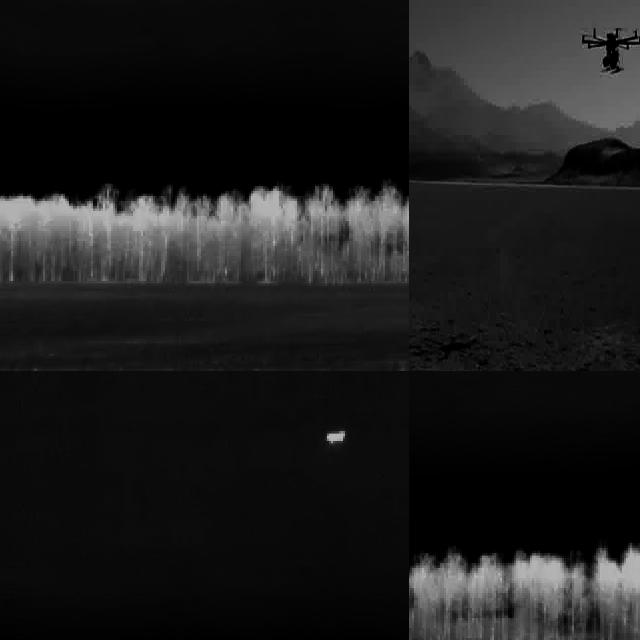1: (304, 420, 372, 462)
drone: (578, 22, 640, 77)
